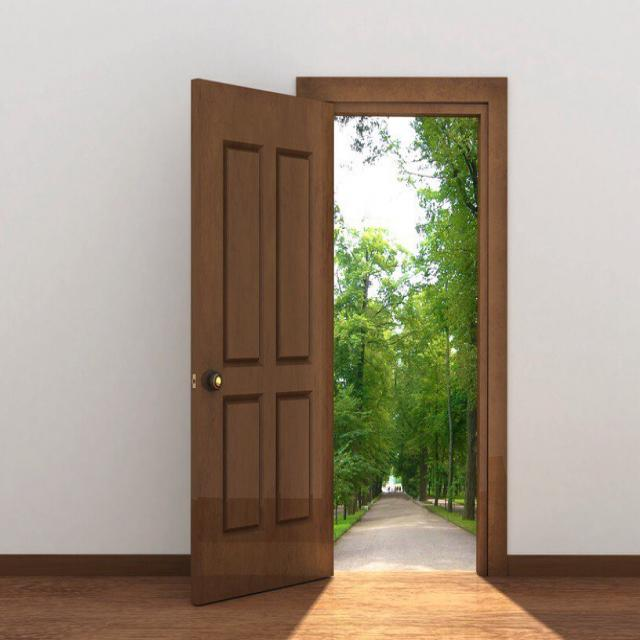open: (203, 83, 498, 572)
